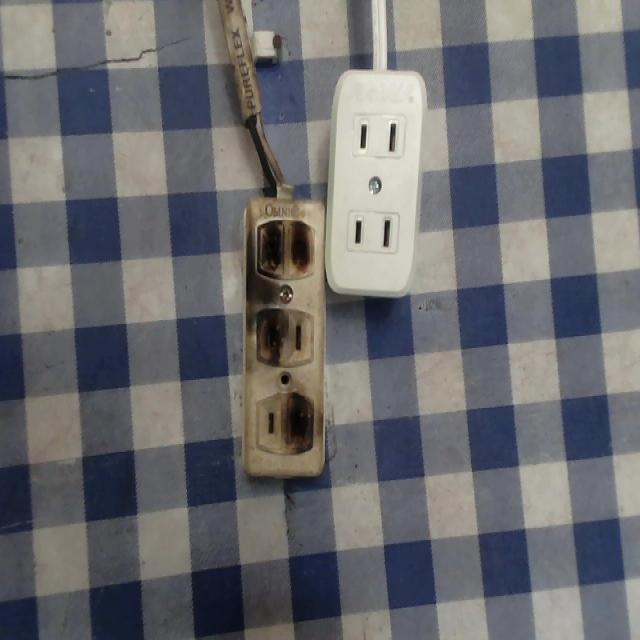-: (246, 205, 318, 288), (280, 392, 320, 459), (248, 302, 287, 366)
